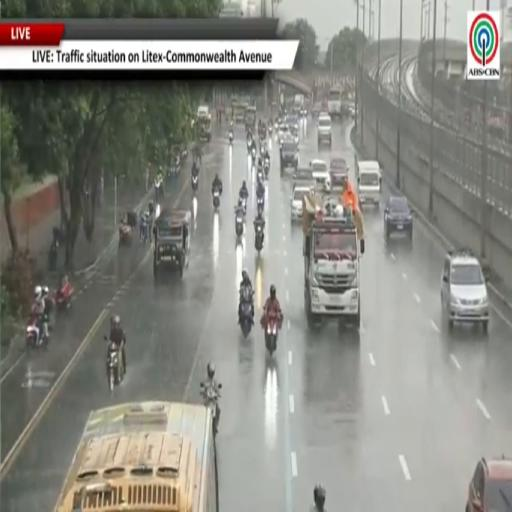bus: (55, 402, 218, 511), (328, 88, 342, 118)
car: (441, 249, 489, 332), (465, 457, 511, 511), (384, 196, 413, 242), (291, 185, 309, 221), (280, 138, 299, 172), (329, 157, 348, 191), (310, 159, 330, 190), (318, 115, 332, 147), (292, 168, 314, 187), (277, 123, 289, 142), (286, 114, 299, 131), (311, 102, 322, 118), (290, 125, 299, 144)
jeepney: (153, 208, 191, 277), (196, 107, 211, 141), (232, 102, 248, 123), (245, 106, 257, 130)
motorcycle: (200, 381, 221, 436), (104, 336, 124, 391), (26, 314, 47, 347), (240, 288, 253, 338), (265, 315, 278, 356), (55, 281, 73, 310), (241, 301, 253, 338), (48, 238, 58, 271), (140, 216, 148, 244), (255, 226, 263, 253), (154, 180, 163, 202), (236, 213, 243, 238), (213, 189, 220, 211), (257, 196, 264, 216), (250, 148, 256, 166), (241, 198, 247, 215), (264, 159, 269, 179), (257, 169, 264, 183), (192, 175, 198, 191), (248, 139, 252, 154), (229, 132, 233, 143), (269, 124, 272, 136)
truck: (303, 191, 364, 328)
